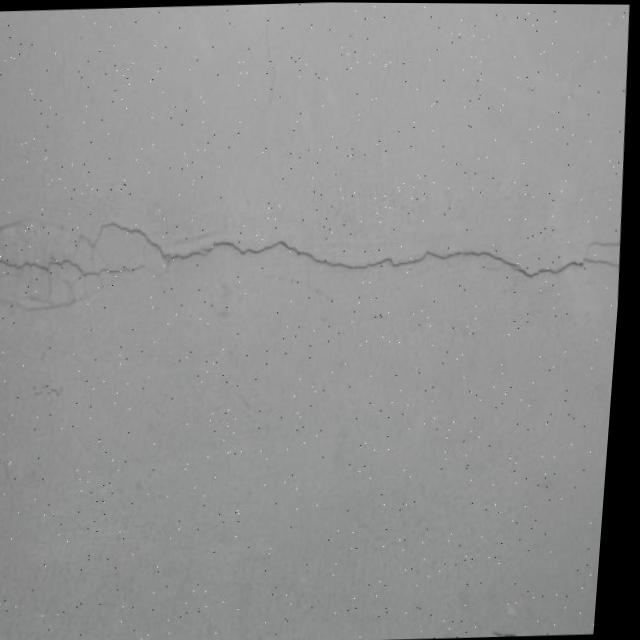Crack: (0, 194, 628, 329)
